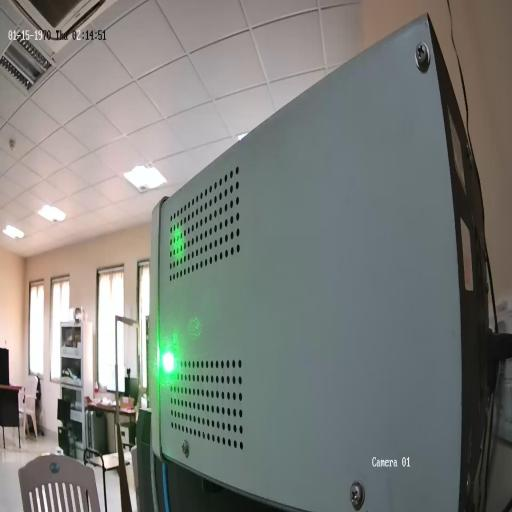laser: (158, 347, 177, 377)
